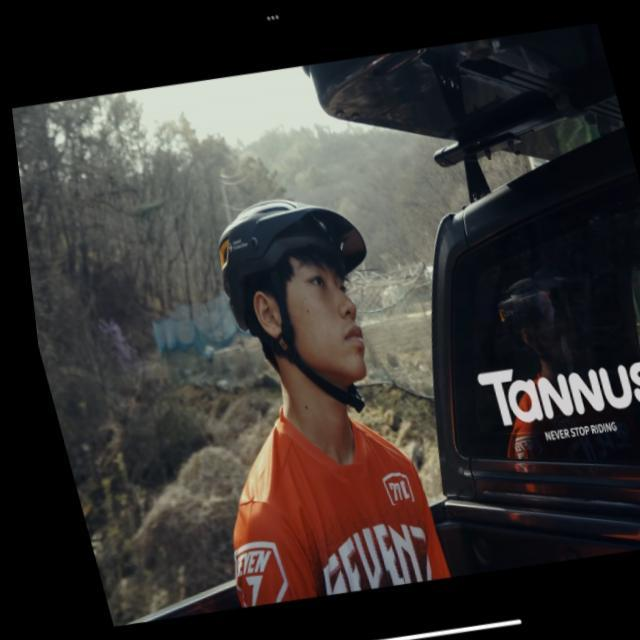Helmet: (209, 188, 397, 408)
